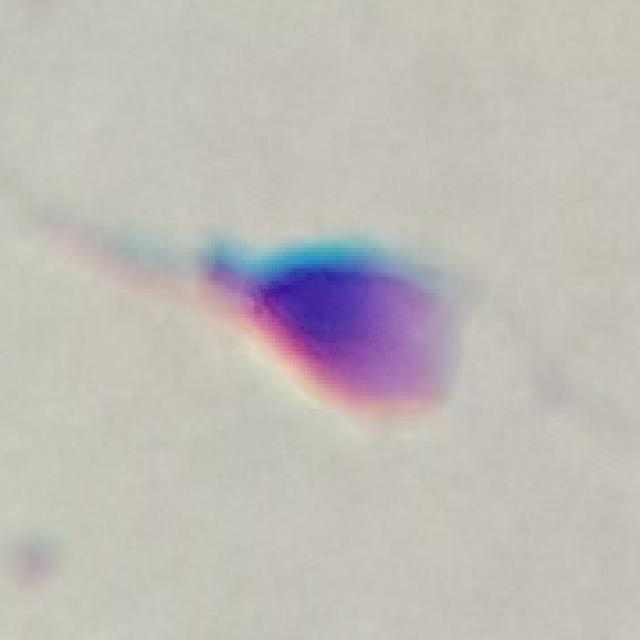normal sperm: (134, 242, 462, 420)
